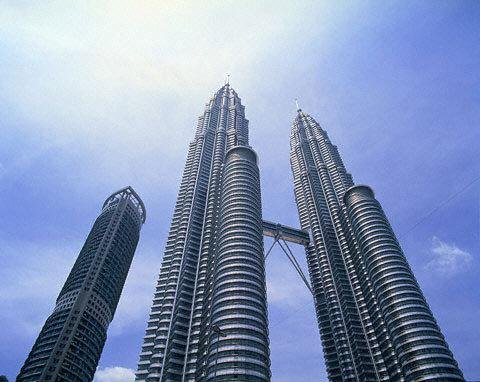building: (134, 75, 466, 382), (17, 186, 146, 382)
